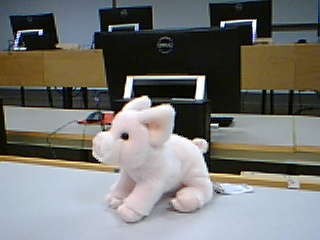piggy: (90, 94, 215, 224)
